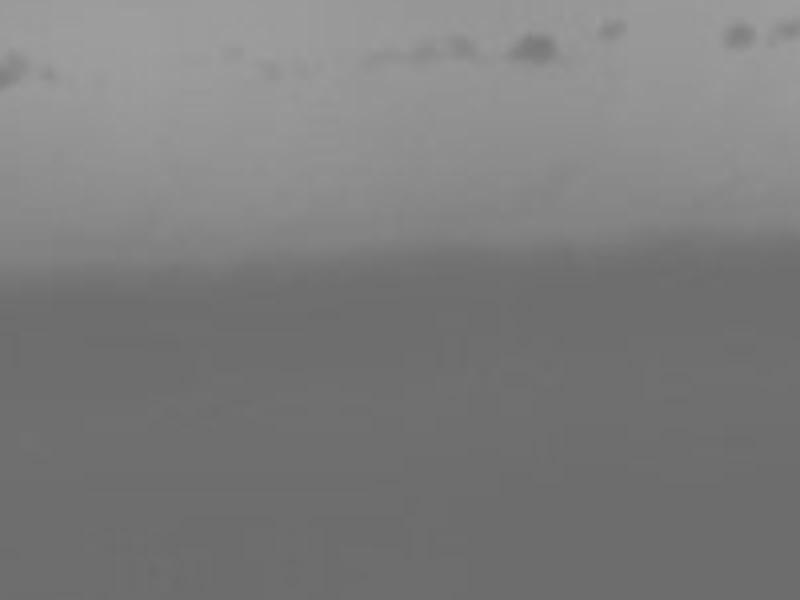defect: (504, 33, 556, 67), (403, 37, 442, 65), (722, 20, 759, 49), (765, 17, 800, 47), (447, 30, 478, 62), (2, 49, 25, 92), (359, 46, 404, 66), (595, 15, 631, 39), (256, 52, 285, 79), (220, 38, 247, 65), (41, 61, 56, 79)
